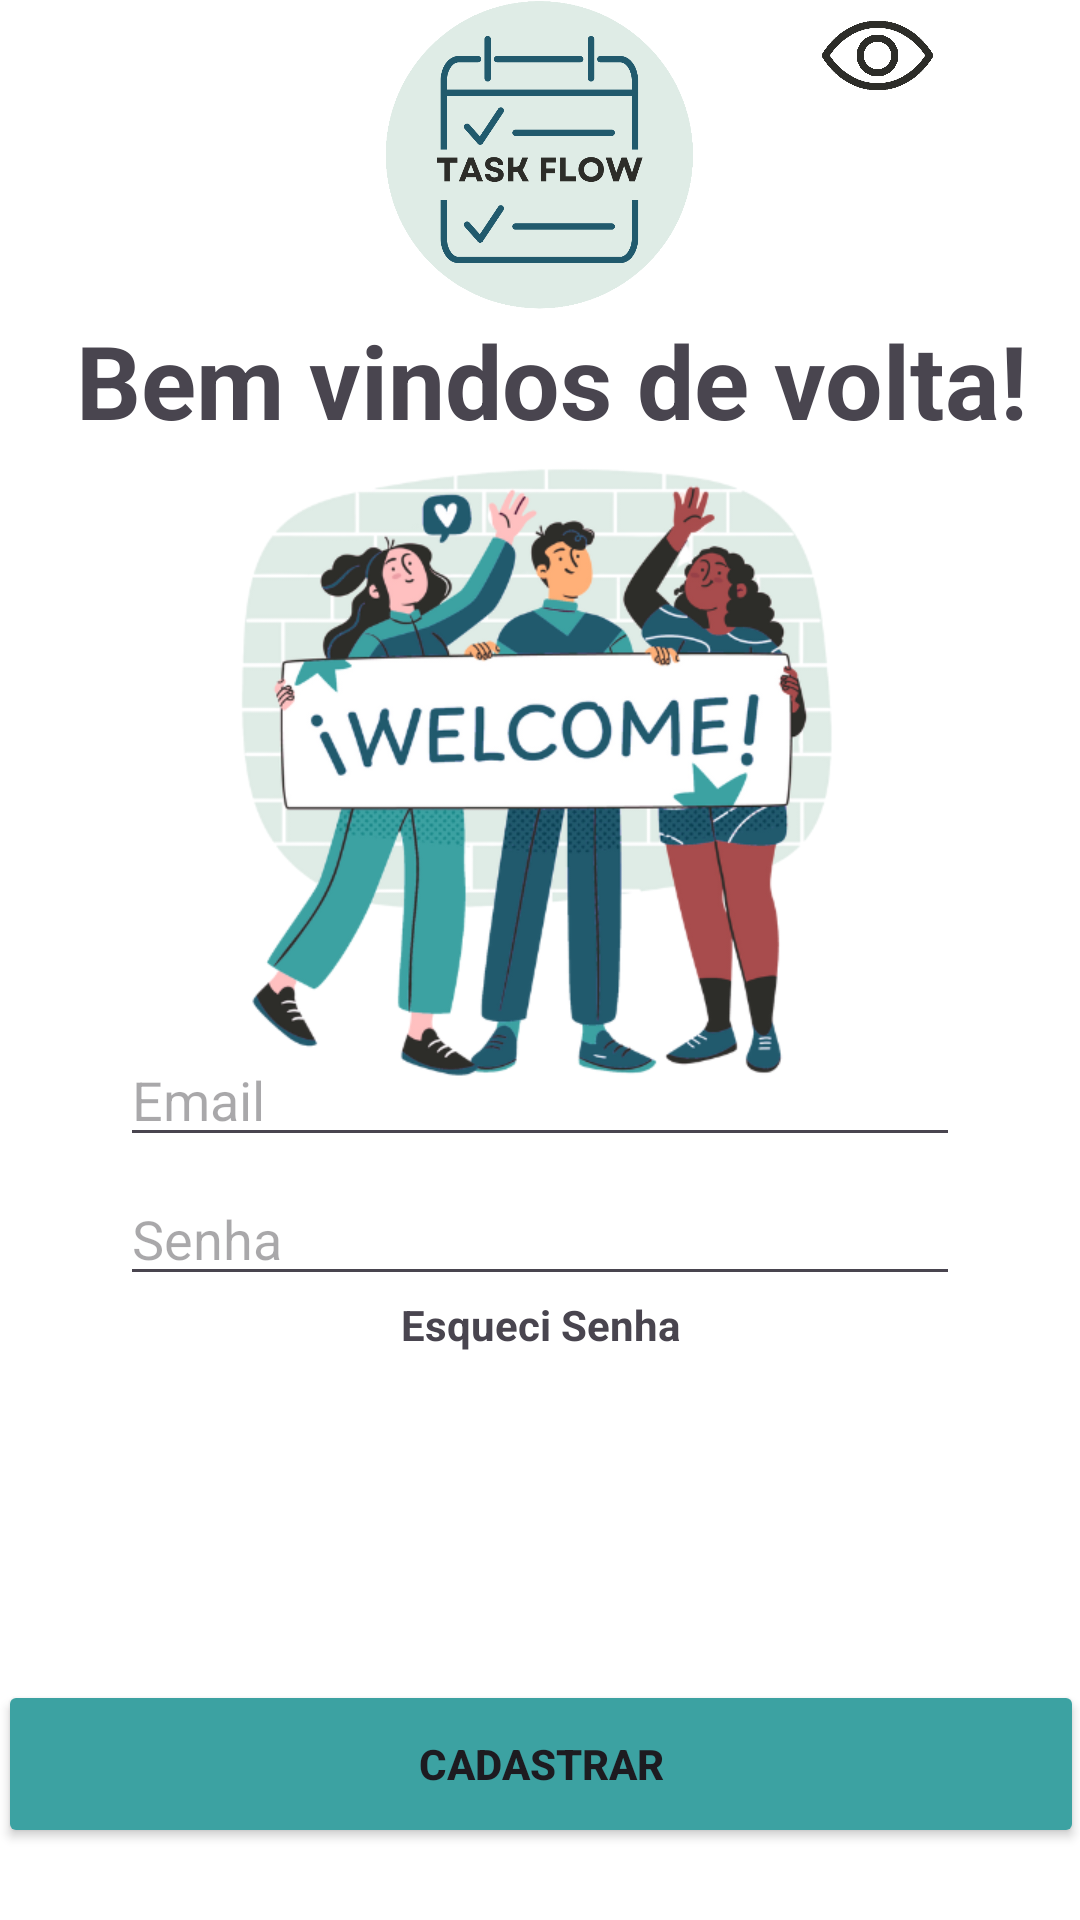

Screen size 1080 × 1920. Icon name, then its box in pixels as (x1, y1, x2, y2):
versenha: (822, 21, 933, 90)
